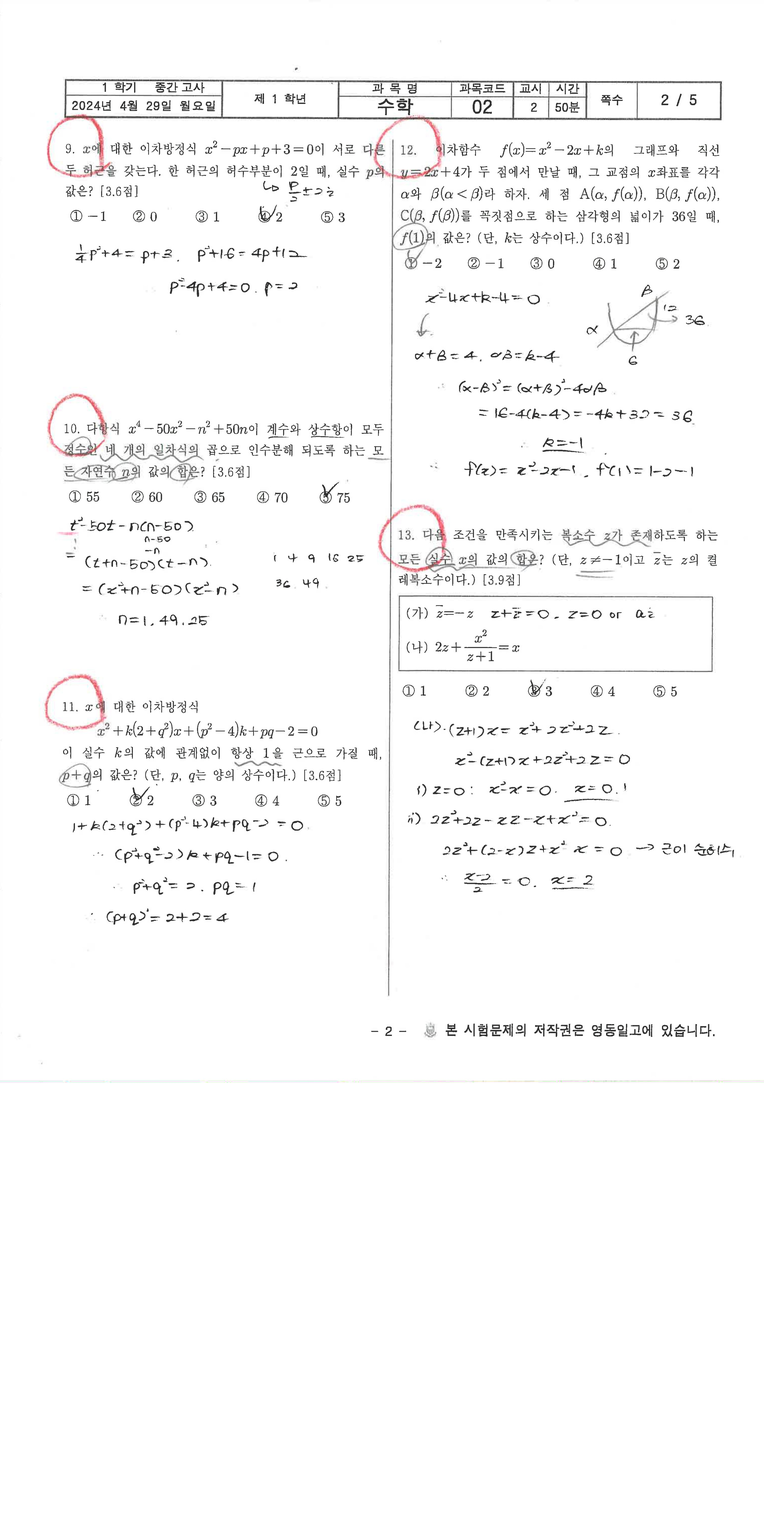problem: (391, 522, 729, 707), (397, 130, 736, 282), (51, 692, 383, 817), (44, 403, 388, 515), (55, 127, 388, 233)
